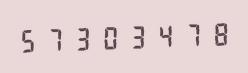eight: (206, 17, 232, 49)
five: (17, 23, 43, 55)
four: (152, 19, 178, 51)
seven: (44, 22, 70, 54), (179, 18, 205, 50)
three: (125, 19, 151, 52), (71, 21, 97, 53)
zero: (98, 20, 124, 52)
